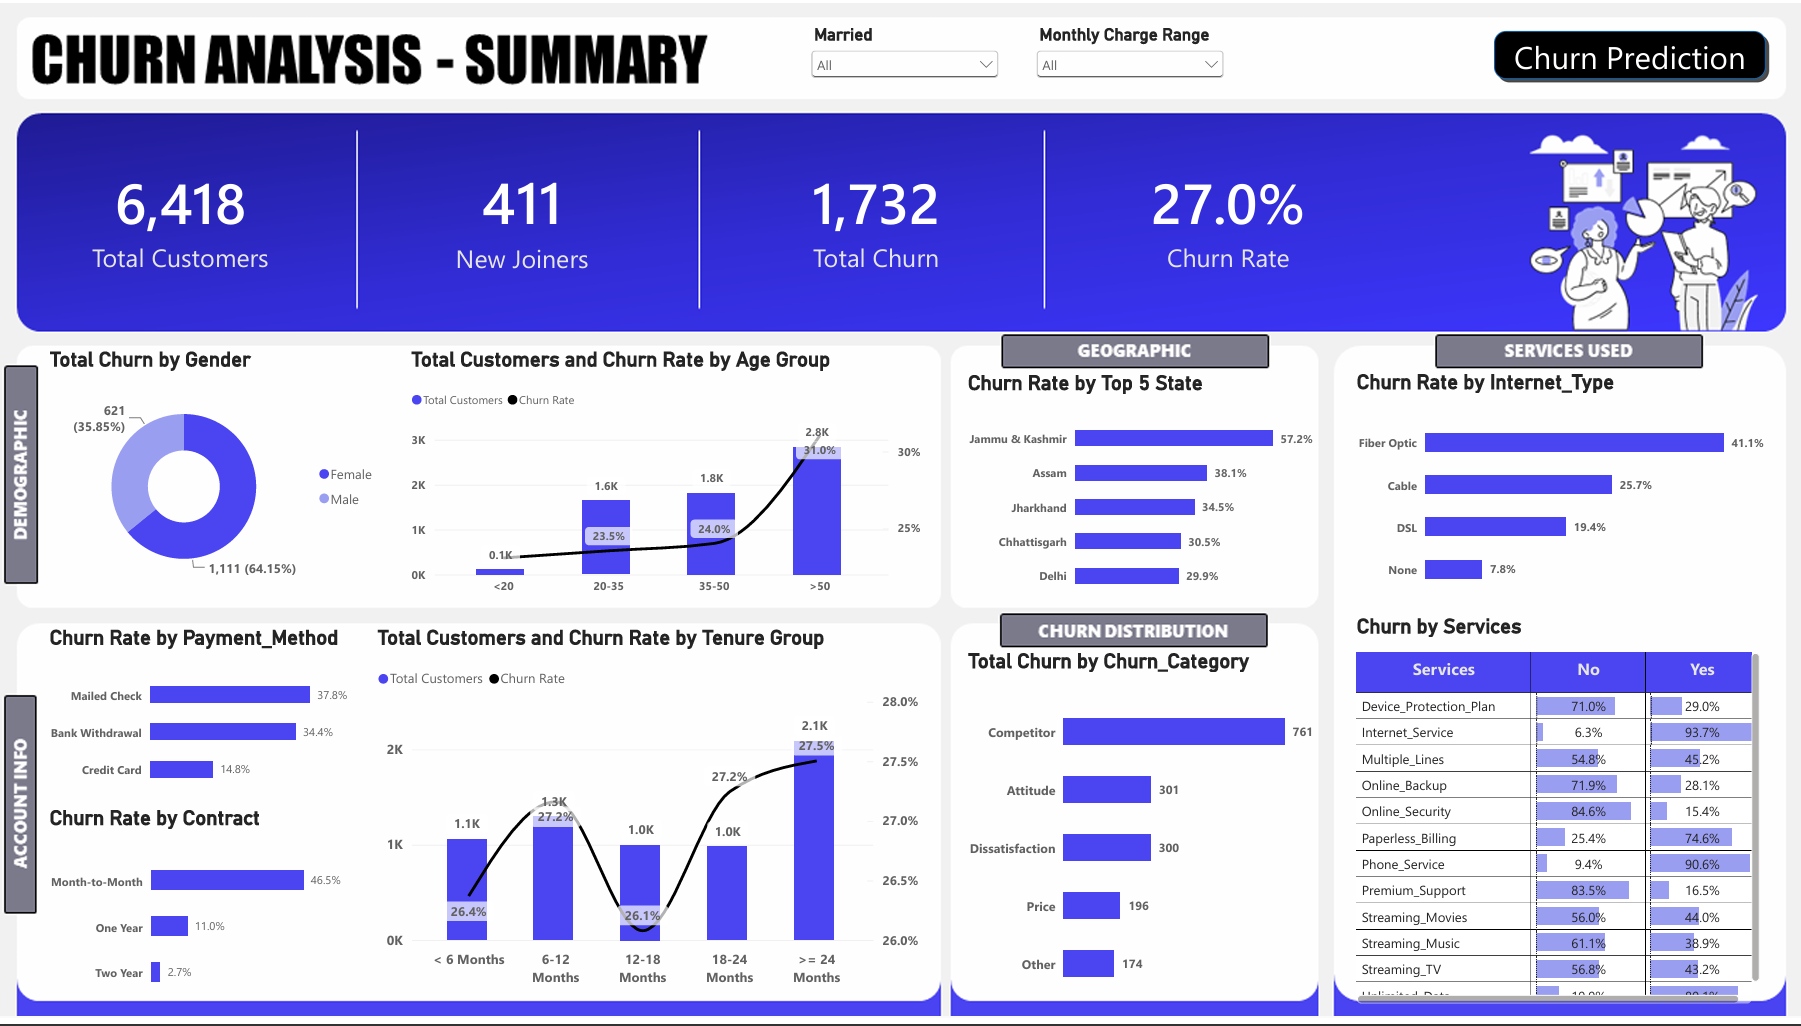

The page's visual inventory and layout, read from the dashboard file:
{"tool":"powerbi","page":{"name":"Summary","canvas":[1920,1080],"ordinal":0},"visuals":[{"type":"cardVisual","fields":{"Data":["tbl_Measures.Total Customers"]},"box":[57.6,134.3,268.6,191.9],"z":0},{"type":"cardVisual","fields":{"Data":["tbl_Measures.Total Churn"]},"box":[798.8,134.3,268.6,191.9],"z":1000},{"type":"cardVisual","fields":{"Data":["tbl_Measures.New Joiners"]},"box":[422.1,134.3,268.6,191.9],"z":2000},{"type":"cardVisual","fields":{"Data":["tbl_Measures.Churn Rate"]},"box":[1173.8,134.3,268.6,191.9],"z":3000},{"type":"donutChart","fields":{"Category":["prod_Churn.Gender"],"Y":["tbl_Measures.Total Churn"]},"box":[37.4,352.2,384.5,284.1],"z":4000},{"type":"lineStackedColumnComboChart","fields":{"Category":["mapping_AgeGrp.Age Group"],"Y":["tbl_Measures.Total Customers"],"Y2":["tbl_Measures.Churn Rate"]},"box":[421.9,352.2,575.1,296],"z":5000},{"type":"clusteredBarChart","fields":{"Category":["prod_Churn.Payment_Method"],"Y":["tbl_Measures.Churn Rate"]},"box":[37.4,648.2,348.8,209.3],"z":6000},{"type":"clusteredBarChart","fields":{"Category":["prod_Churn.Contract"],"Y":["tbl_Measures.Churn Rate"]},"box":[37.4,840.5,348.8,239.9],"z":7000},{"type":"lineStackedColumnComboChart","fields":{"Category":["mapping_TenureGrp.Tenure Group"],"Y":["tbl_Measures.Total Customers"],"Y2":["tbl_Measures.Churn Rate"]},"box":[386.2,648.2,610.8,415.1],"z":8000},{"type":"clusteredBarChart","title":"Churn Rate by Top 5 State","fields":{"Category":["prod_Churn.State"],"Y":["tbl_Measures.Churn Rate"]},"box":[1015.1,376.7,399.4,272.1],"z":9000},{"type":"clusteredBarChart","fields":{"Category":["prod_Churn.Churn_Category"],"Y":["tbl_Measures.Total Churn"]},"box":[1015.1,673.3,399.4,406.4],"z":10000},{"type":"clusteredBarChart","fields":{"Category":["prod_Churn.Internet_Type"],"Y":["tbl_Measures.Churn Rate"]},"box":[1429.1,376,491.7,272.2],"z":11000},{"type":"pivotTable","title":"Churn by Services","fields":{"Columns":["prod_Services.Status"],"Rows":["prod_Services.Services"],"Values":["Sum(prod_Services.Churn Status)"]},"box":[1429.1,636.3,461.1,444],"z":12000},{"type":"slicer","fields":{"Values":["prod_Churn.Monthly Charge Status"]},"box":[1099.1,22.1,209.3,85.1],"z":13000},{"type":"slicer","fields":{"Values":["prod_Churn.Married"]},"box":[859.2,22.1,209.3,85.1],"z":14000},{"type":"shape","box":[1585.6,23.8,299.4,61.2],"z":14001}]}

Visuals, with their boxes in screenshot pixels (x1, y1, x2, y2), scaled from the page's 1920x1080 canvas onto the 1801x1026 screenshot:
cardVisual - tbl_Measures.Total Customers: [54,128,306,310]
cardVisual - tbl_Measures.Total Churn: [749,128,1001,310]
cardVisual - tbl_Measures.New Joiners: [396,128,648,310]
cardVisual - tbl_Measures.Churn Rate: [1101,128,1353,310]
donutChart - prod_Churn.Gender x tbl_Measures.Total Churn: [35,335,396,604]
lineStackedColumnComboChart - mapping_AgeGrp.Age Group x tbl_Measures.Total Customers: [396,335,935,616]
clusteredBarChart - prod_Churn.Payment_Method x tbl_Measures.Churn Rate: [35,616,362,815]
clusteredBarChart - prod_Churn.Contract x tbl_Measures.Churn Rate: [35,798,362,1025]
lineStackedColumnComboChart - mapping_TenureGrp.Tenure Group x tbl_Measures.Total Customers: [362,616,935,1010]
"Churn Rate by Top 5 State" clusteredBarChart: [952,358,1327,616]
clusteredBarChart - prod_Churn.Churn_Category x tbl_Measures.Total Churn: [952,640,1327,1025]
clusteredBarChart - prod_Churn.Internet_Type x tbl_Measures.Churn Rate: [1341,357,1800,616]
"Churn by Services" pivotTable: [1341,604,1773,1025]
slicer - prod_Churn.Monthly Charge Status: [1031,21,1227,102]
slicer - prod_Churn.Married: [806,21,1002,102]
shape: [1487,23,1768,81]
